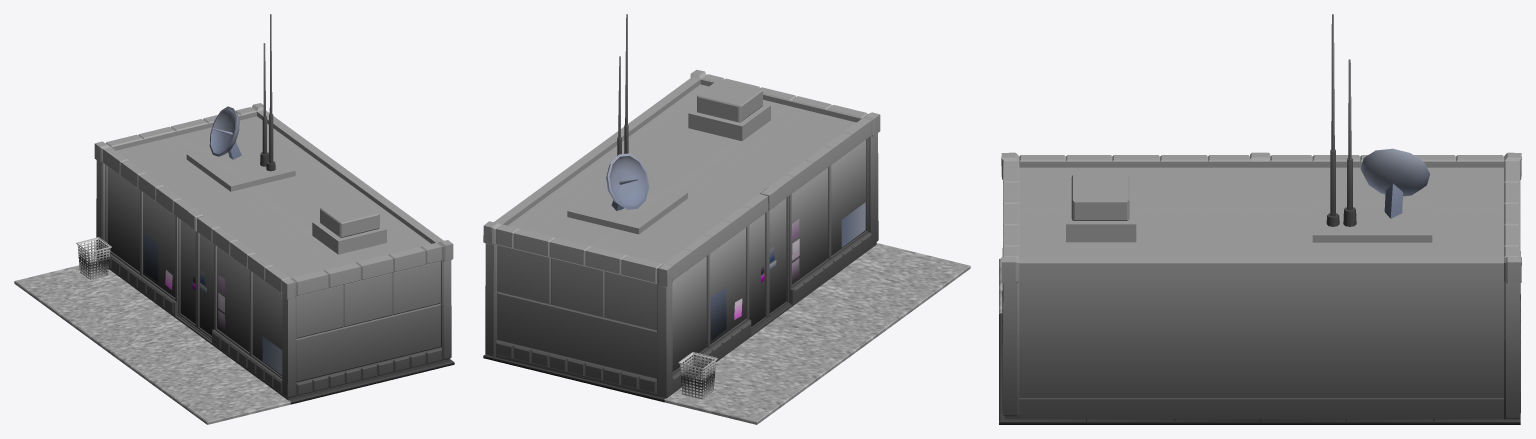
The model's file is miami_buildings_V2_002.FBX.
The picture shows the model from 3 angles, left to right: view 1: azimuth 30°, elevation 25°; view 2: azimuth 150°, elevation 25°; view 3: azimuth 270°, elevation 25°; orthographic projection. The views are drawn at different scales.
Parts seen in each view (by area): view 1: Box003, Box145, Plane082, Sphere001, Box146, Cylinder095, Cylinder096; view 2: Box003, Box145, Plane082, Sphere001, Box146; view 3: Box003, Box145, Sphere001, Cylinder095, Cylinder096.
Boxes of the visible parts, x1,y1,x2,y2 form: Box003: [94, 103, 453, 400]; Box145: [14, 263, 454, 424]; Plane082: [143, 234, 282, 375]; Sphere001: [209, 106, 241, 159]; Box146: [76, 237, 111, 279]; Cylinder095: [266, 14, 275, 171]; Cylinder096: [260, 43, 268, 166]; Box003: [483, 69, 880, 398]; Box145: [483, 243, 970, 424]; Plane082: [710, 202, 865, 340]; Sphere001: [606, 153, 649, 210]; Box146: [678, 352, 717, 399]; Box003: [1001, 152, 1521, 419]; Box145: [999, 258, 1520, 424]; Sphere001: [1360, 148, 1430, 218]; Cylinder095: [1326, 14, 1339, 226]; Cylinder096: [1343, 59, 1356, 226].
Size of the model in its own units: 358 by 381 by 485.
